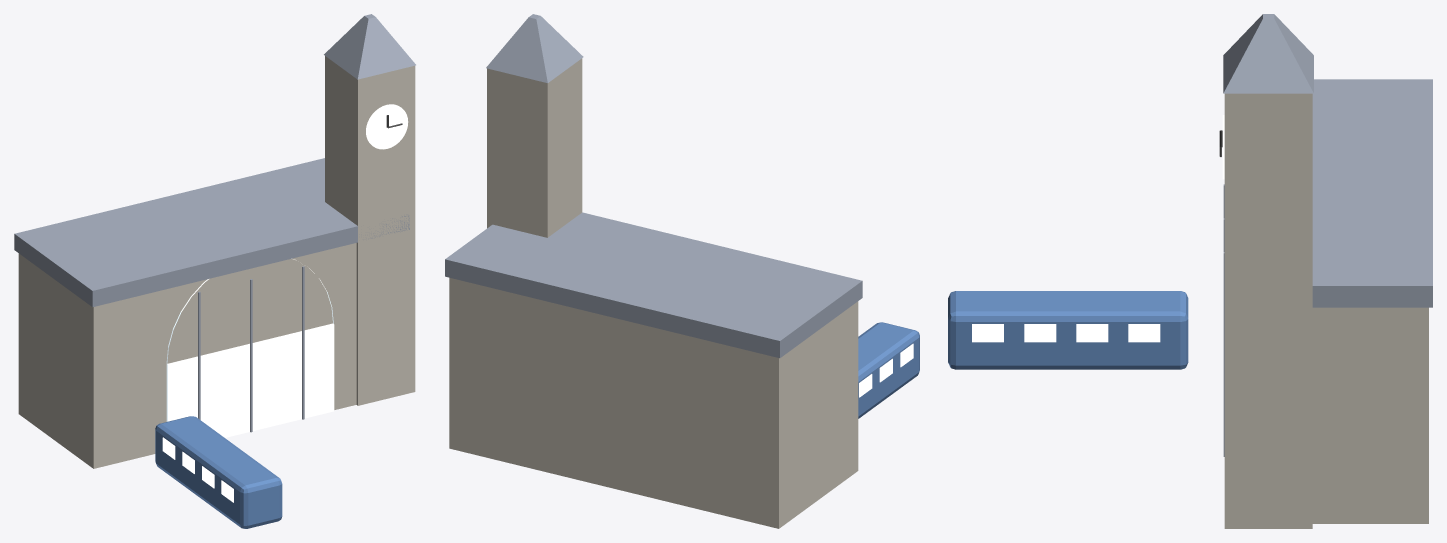
Rendered from gare.glb.
3 views of the same model, side by side, from view 1: azimuth 30°, elevation 25°; view 2: azimuth 150°, elevation 25°; view 3: azimuth 270°, elevation 25° (orthographic). The views are drawn at different scales.
Visible parts, largest first — view 1: Hall, RoofTop, Tower, ArchLower, Train, TowerRoof, ClockFace; view 2: Hall, RoofTop, Tower, Train, TowerRoof; view 3: Tower, RoofTop, Hall, Train, TowerRoof, TW11, TW21, TW31, TW01.
Boxes of the visible parts, left/top/right/bottom form: Hall: left=18, top=243, right=356, bottom=468; RoofTop: left=14, top=158, right=409, bottom=307; Tower: left=325, top=56, right=415, bottom=405; ArchLower: left=166, top=323, right=334, bottom=437; Train: left=155, top=416, right=282, bottom=528; TowerRoof: left=324, top=14, right=415, bottom=79; ClockFace: left=366, top=104, right=408, bottom=149; Hall: left=449, top=277, right=858, bottom=528; RoofTop: left=445, top=212, right=862, bottom=358; Tower: left=487, top=58, right=582, bottom=237; Train: left=858, top=322, right=919, bottom=418; TowerRoof: left=486, top=14, right=583, bottom=83; Tower: left=1224, top=93, right=1312, bottom=528; RoofTop: left=1312, top=79, right=1432, bottom=307; Hall: left=1312, top=307, right=1428, bottom=523; Train: left=948, top=291, right=1188, bottom=369; TowerRoof: left=1223, top=14, right=1313, bottom=93; TW11: left=1024, top=324, right=1056, bottom=342; TW21: left=1076, top=324, right=1108, bottom=342; TW31: left=1128, top=324, right=1160, bottom=342; TW01: left=972, top=324, right=1003, bottom=342.
Bounding box in the file's own units: 12.43 × 13.6 × 12.1.
